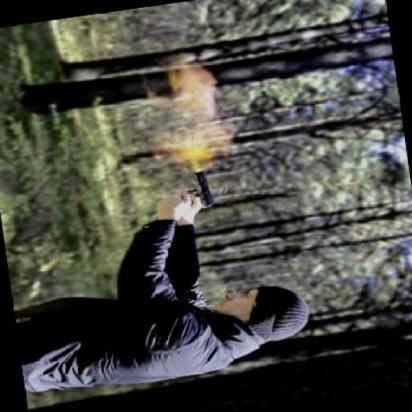Gun: (173, 166, 213, 210)
